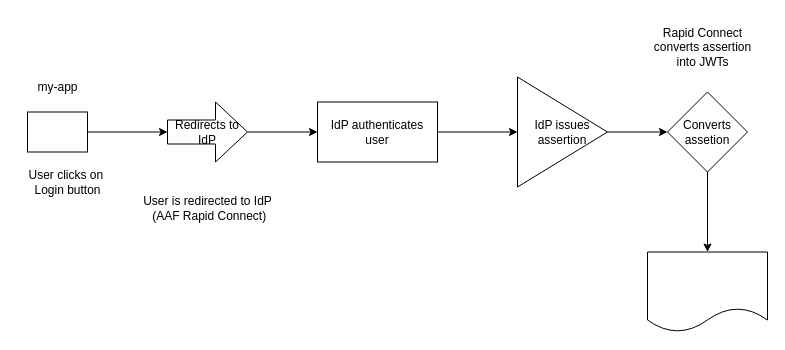
The diagram is 785 pixels wide and 350 high, and some of its shapes have lost their labels. The centre of each missing label's shape, as x and y in pixels:
Login button: (57,131)
SP (my-app) validates JWT token and displays user info: (707,291)
